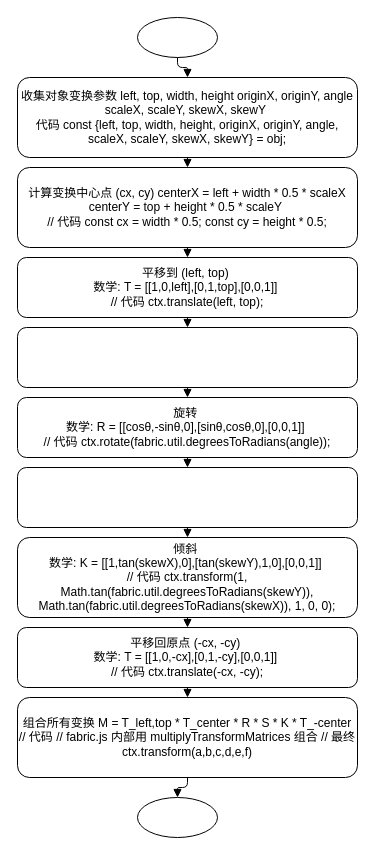
This 375x855 diagram has some shape labels left out. The centre of each missing label's shape, as x and y in pixels:
"平移到中心点 (cx, cy) 数学: T = [[1,0,cx],[0,1,cy],[0,0,1]] // 代码 ctx.translate(cx, cy);" goes at pixel 187 357.
"开始" goes at pixel 177 37.
"结束" goes at pixel 177 817.
"缩放 数学: S = [[scaleX,0,0],[0,scaleY,0],[0,0,1]] // 代码 ctx.scale(scaleX, scaleY);" goes at pixel 187 497.
